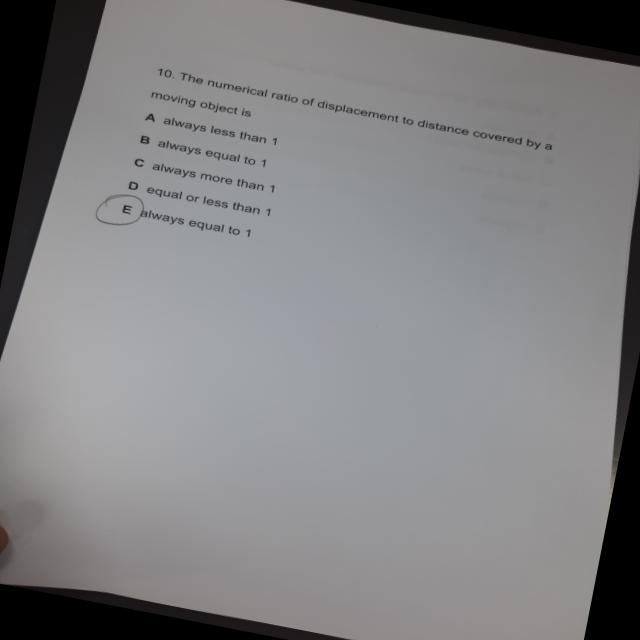E: (87, 187, 152, 237)
